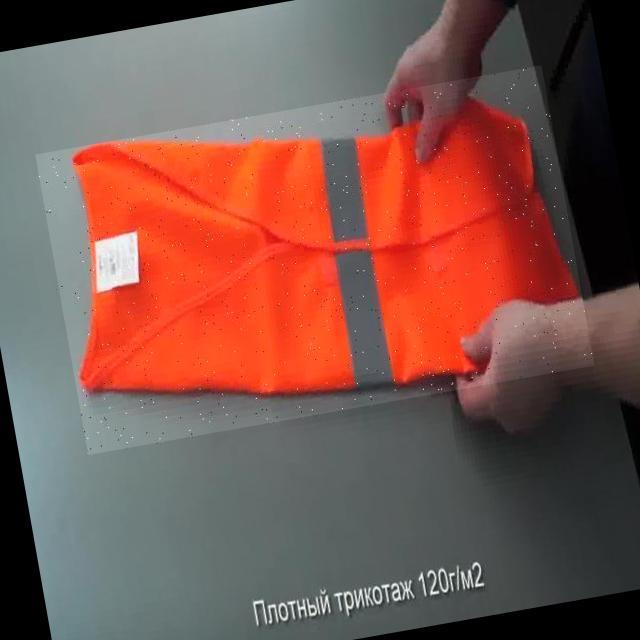Safety Vest: (36, 65, 595, 456)
bare-arms: (448, 283, 586, 438), (383, 35, 499, 177)
